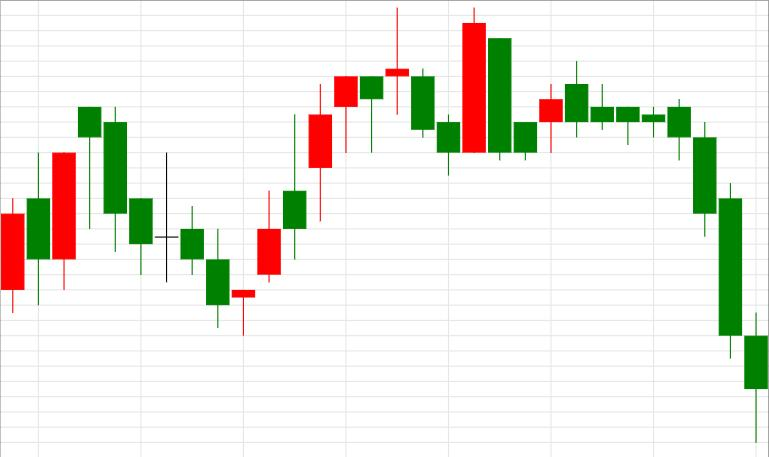hanging_man_fall: (232, 76, 383, 335), (232, 77, 358, 336), (1, 107, 101, 313)
